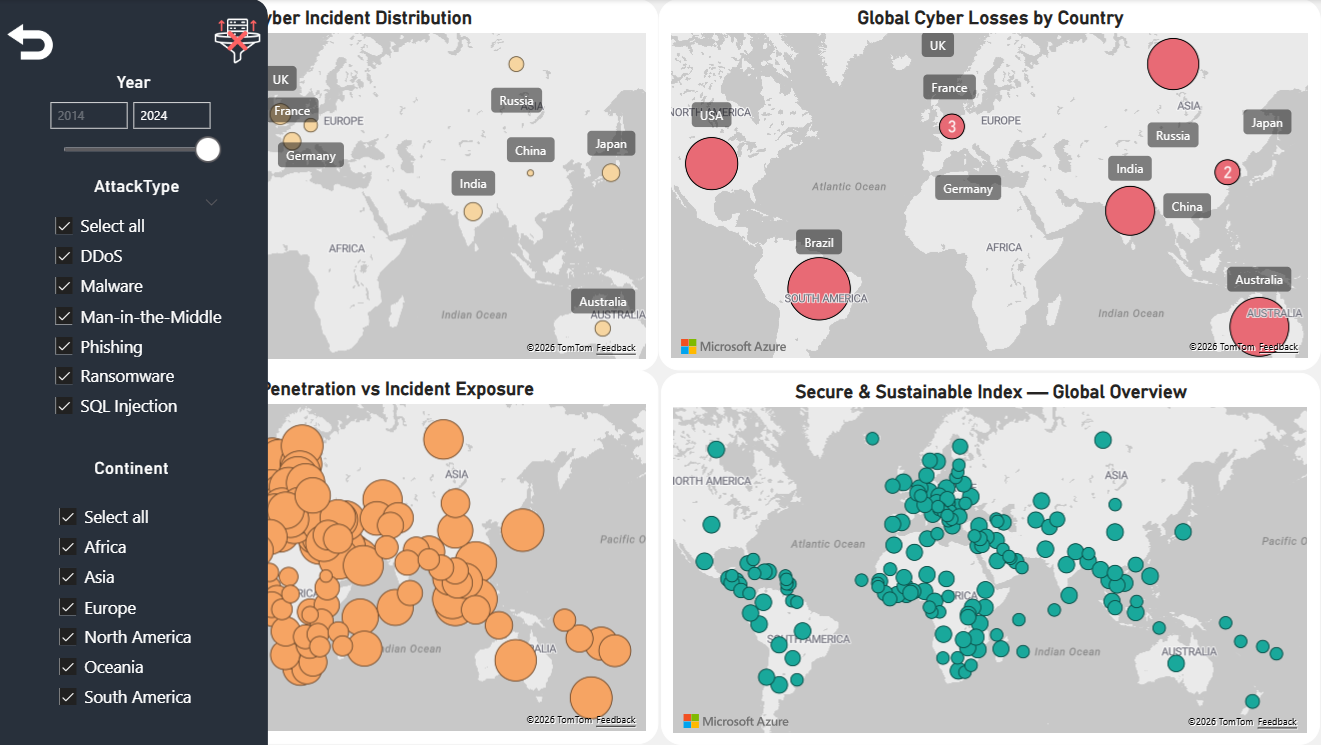

Layout of this report page (visuals, bound fields, positions):
{"tool":"powerbi","page":{"name":"Global Maps","canvas":[1280,720],"ordinal":3},"visuals":[{"type":"group","id":"g1","title":"Maps","box":[9.6,0,1269.7,720.2],"z":0},{"type":"azureMap","title":"Global Cyber Incident Distribution","fields":{"Category":["Fact_GlobalThreats.Country"],"Size":["Measures – GlobalThreats.Total Global Incidents"]},"box":[9.6,0,629.8,359.5],"z":0,"group":"g1"},{"type":"shape","box":[612.8,335.8,52.1,50.6],"z":0,"group":"g2"},{"type":"azureMap","title":"Global Cyber Losses by Country","fields":{"Category":["Fact_GlobalThreats.Country"],"Size":["Measures – GlobalThreats.Total Global Loss(USD)"]},"box":[639.8,0,639.4,358.3],"z":1000,"group":"g1"},{"type":"image","title":"Logo","box":[612.8,338.7,52.1,44.8],"z":1000,"group":"g2"},{"type":"group","id":"g2","title":"mid butt","box":[612.8,335.8,52.1,50.6],"z":2000},{"type":"azureMap","title":"Global Internet Penetration vs Incident Exposure","fields":{"Category":["WorldSustainabilityDataset.Country"],"Size":["Measures – Sustainability.Avg Internet Users (%)"]},"box":[9.8,358.8,629.6,360.4],"z":2000,"group":"g1"},{"type":"azureMap","title":"Secure & Sustainable Index — Global Overview","fields":{"Category":["WorldSustainabilityDataset.Country"],"Size":["Measures – Combined.Secure & Sustainable Index"]},"box":[642.3,360.7,635.8,359.5],"z":3000,"group":"g1"}]}

Visuals, with their boxes on the page's 1280x720 design canvas (x1, y1, x2, y2). These are canvas units, not pixel positions in the 1321x745 screenshot, which may show the page scaled, cropped or inside an application window:
"Maps" group: {"left": 10, "top": 0, "right": 1279, "bottom": 720}
"Global Cyber Incident Distribution" azureMap: {"left": 10, "top": 0, "right": 639, "bottom": 360}
shape: {"left": 613, "top": 336, "right": 665, "bottom": 386}
"Global Cyber Losses by Country" azureMap: {"left": 640, "top": 0, "right": 1279, "bottom": 358}
"Logo" image: {"left": 613, "top": 339, "right": 665, "bottom": 384}
"mid butt" group: {"left": 613, "top": 336, "right": 665, "bottom": 386}
"Global Internet Penetration vs Incident Exposure" azureMap: {"left": 10, "top": 359, "right": 639, "bottom": 719}
"Secure & Sustainable Index — Global Overview" azureMap: {"left": 642, "top": 361, "right": 1278, "bottom": 720}
